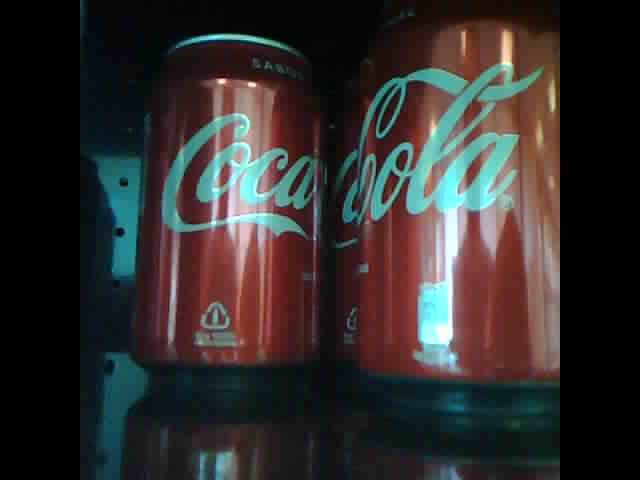coca cola: (328, 3, 559, 390), (141, 31, 323, 378)
